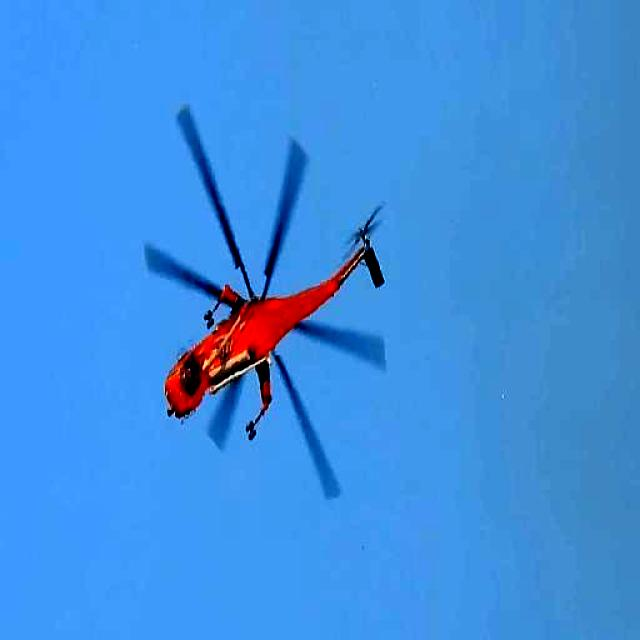drone: (144, 104, 391, 491)
